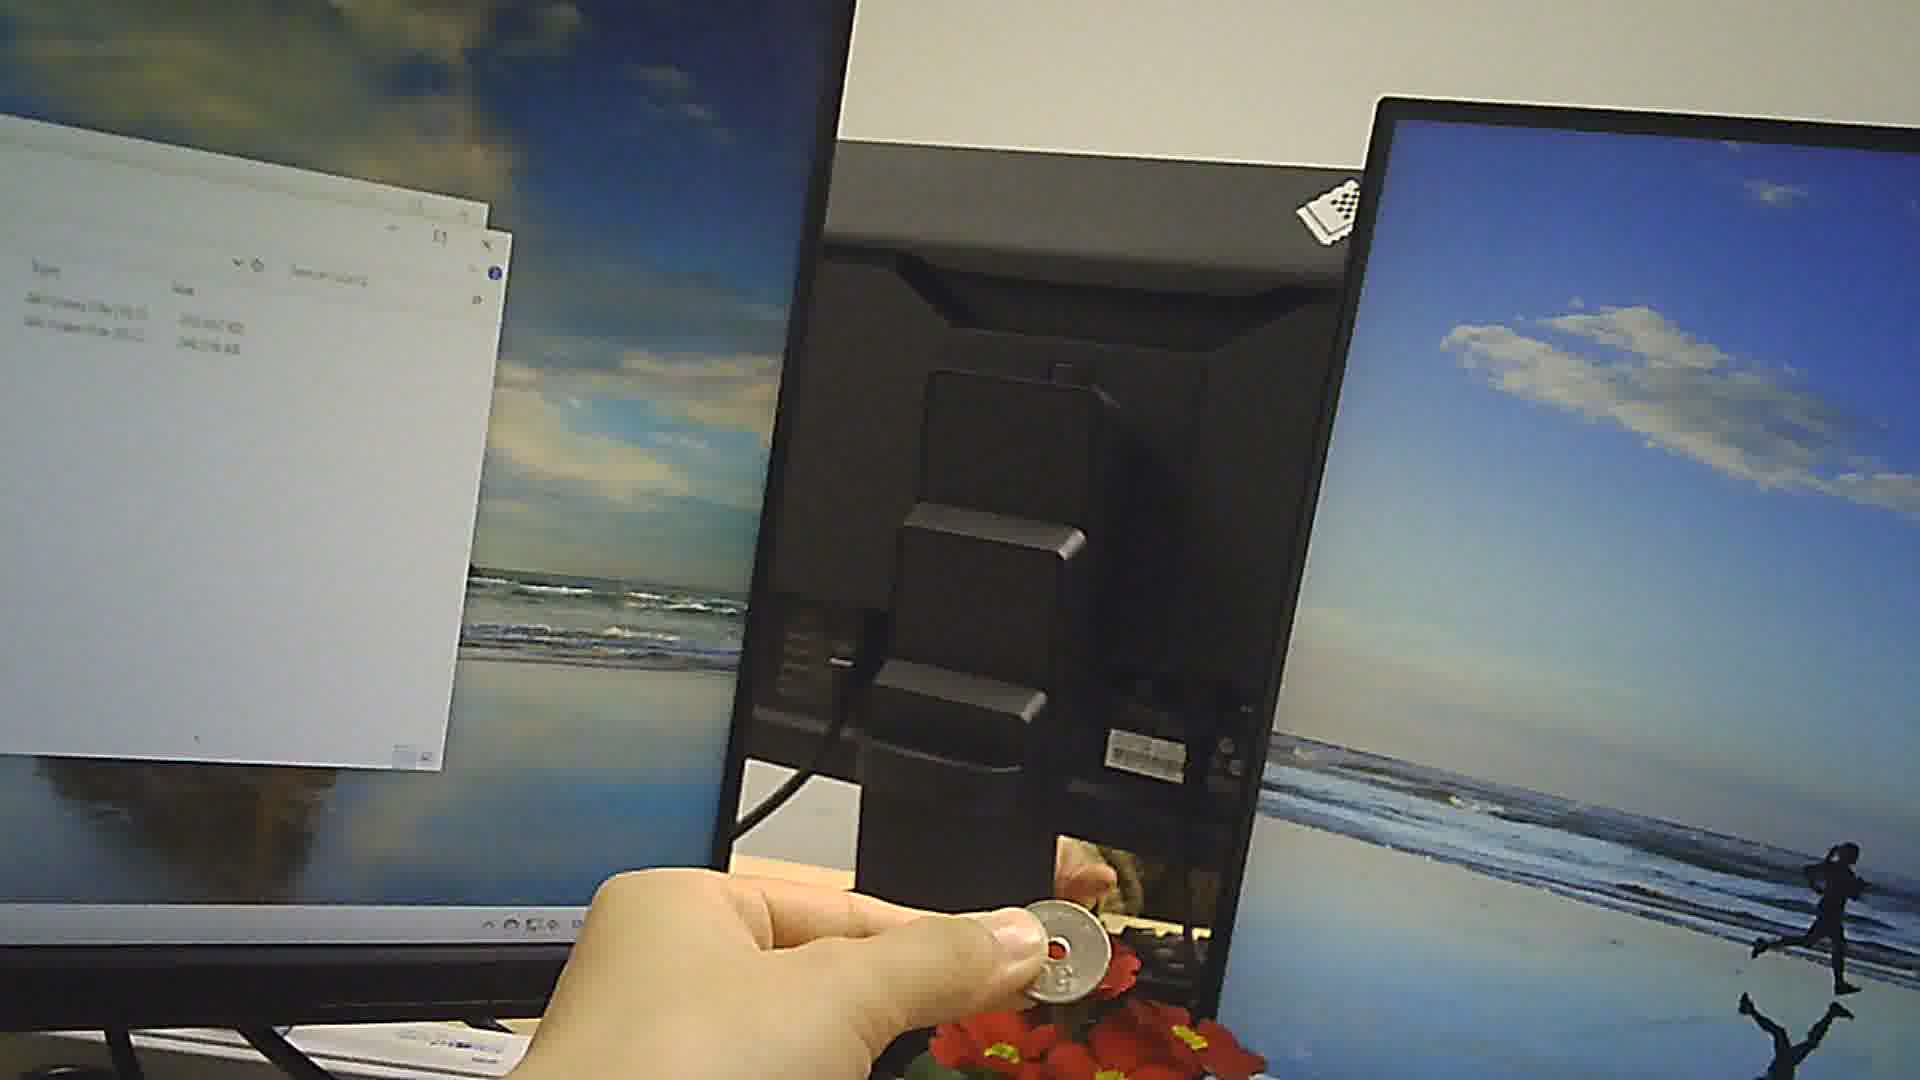50 Yen: (1006, 895, 1110, 1007)
